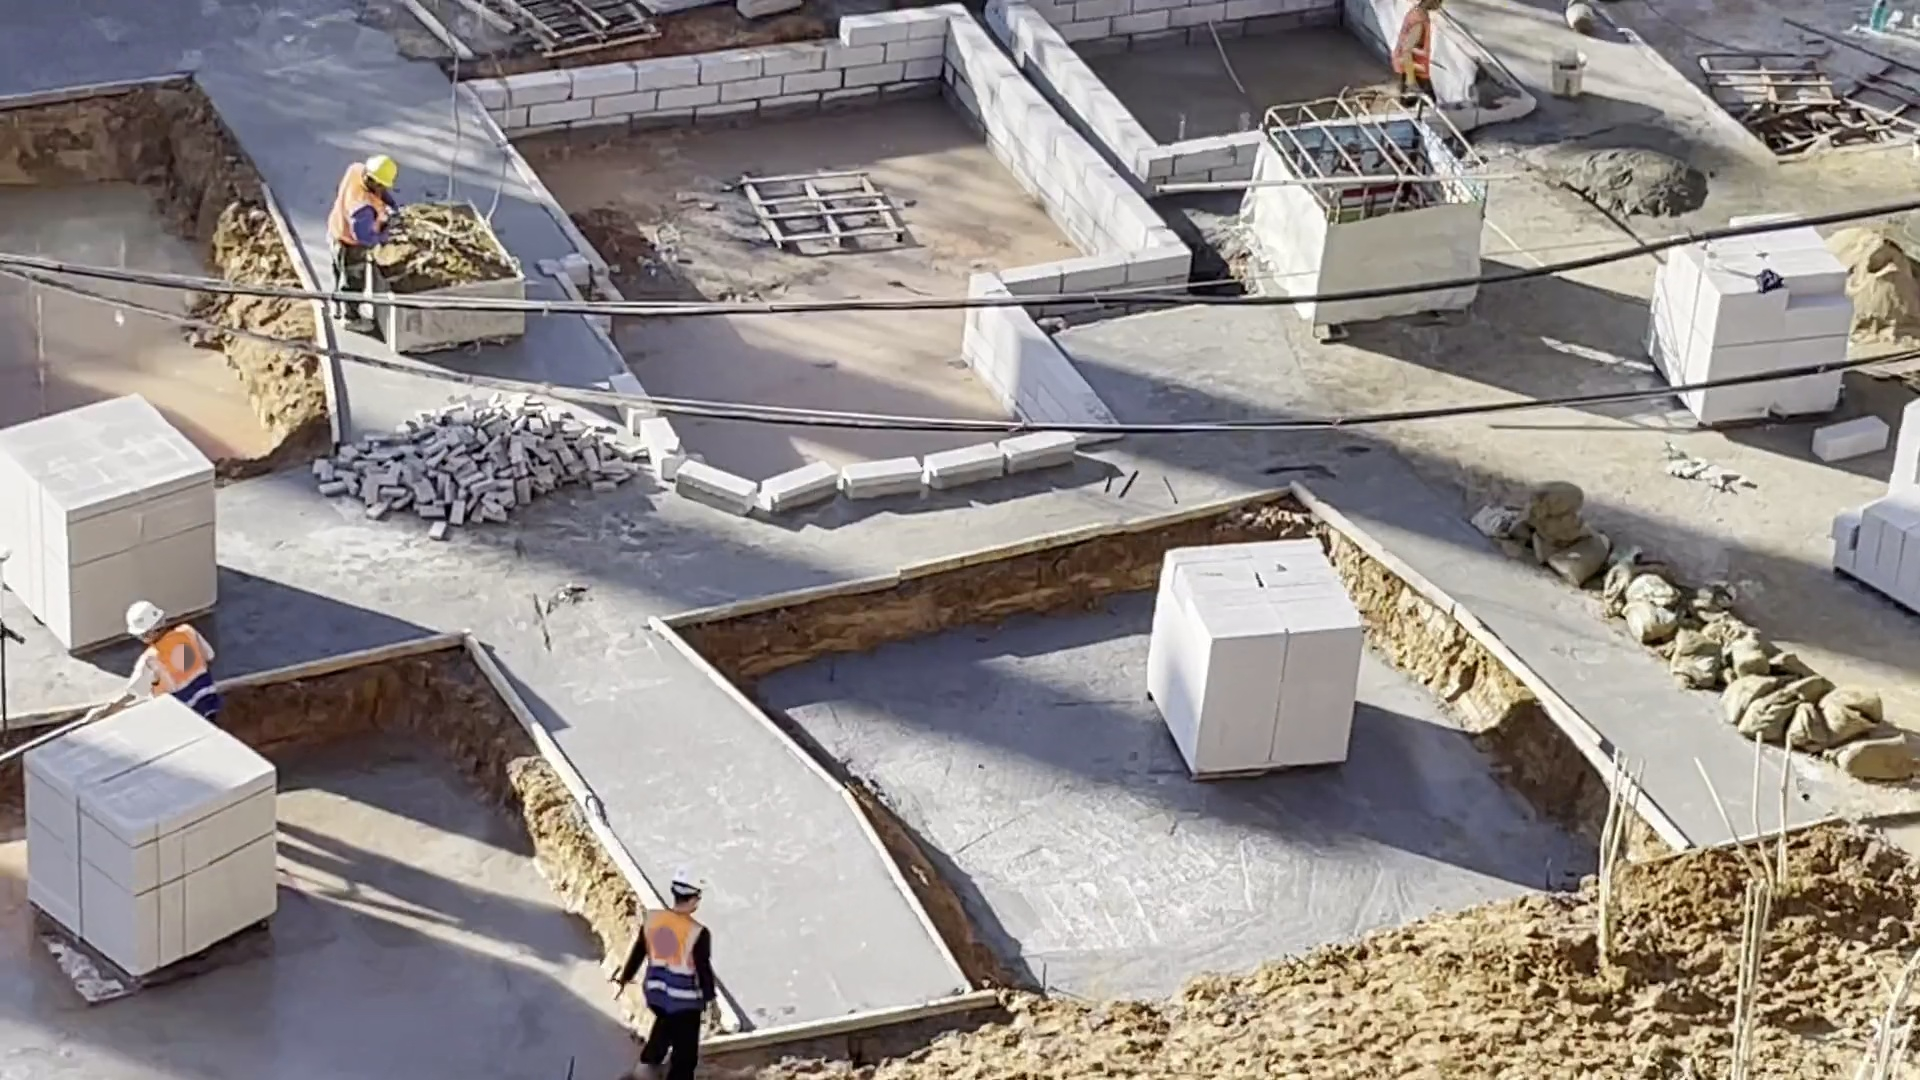brick: (28, 694, 278, 982), (1142, 528, 1364, 786), (5, 379, 217, 637), (1819, 393, 1920, 628), (1646, 258, 1854, 371)
helmet: (363, 151, 403, 193), (121, 604, 167, 635), (671, 859, 710, 896)
person: (597, 862, 729, 1080), (318, 148, 411, 292), (82, 600, 216, 689), (1386, 1, 1449, 96)
vest: (637, 906, 711, 1021), (324, 159, 389, 242), (139, 626, 207, 672), (1392, 9, 1435, 79)
